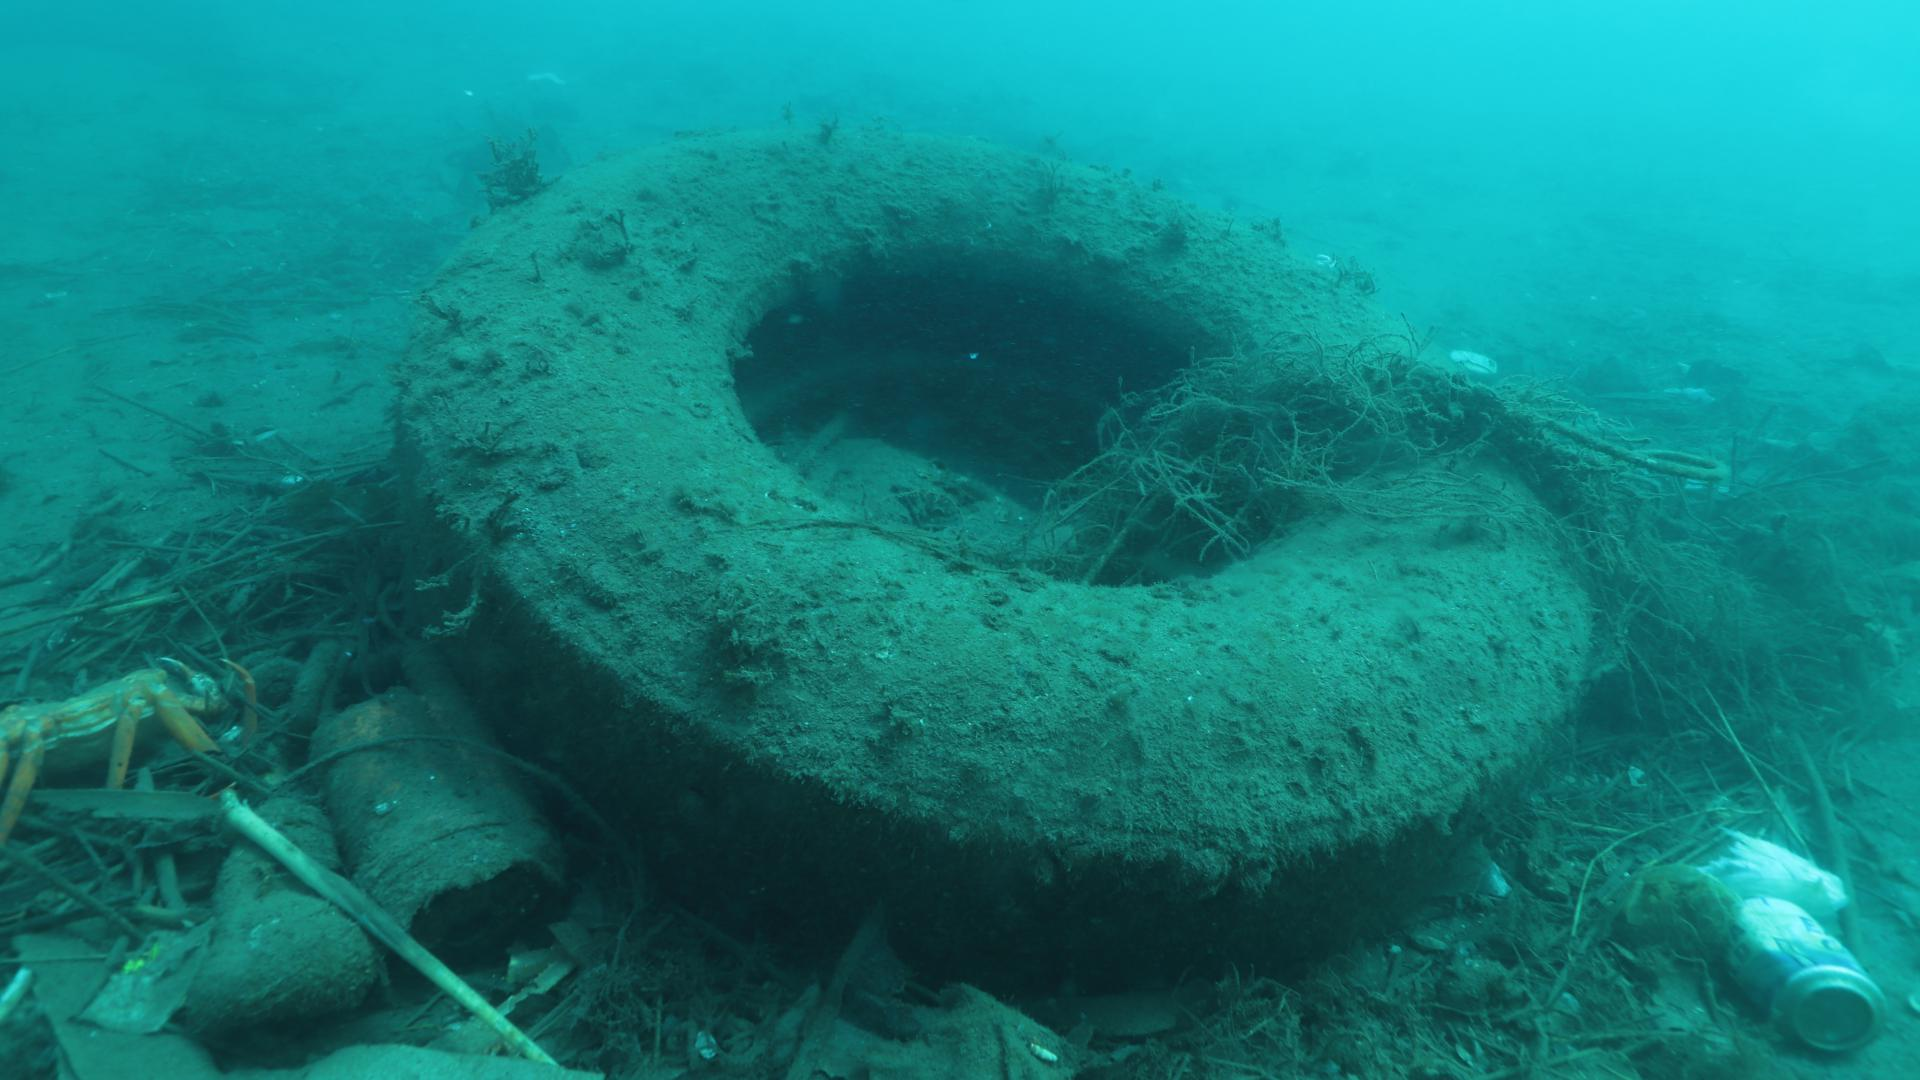tire: (392, 132, 1593, 1000)
